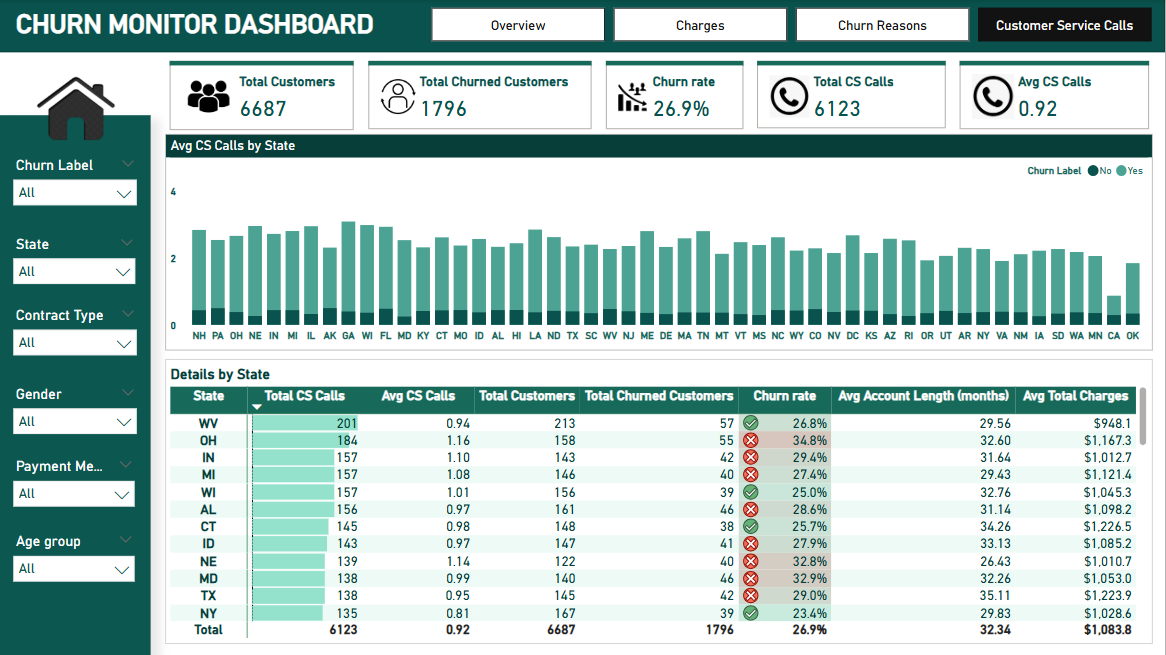

This screenshot's page, from the dashboard's own definition file:
{"tool":"powerbi","page":{"name":"Customer Service Calls","canvas":[1280,720],"ordinal":3},"visuals":[{"type":"shape","box":[0,125.7,165.7,592.9],"z":0},{"type":"textbox","box":[31.7,15.9,258.3,37.5],"z":1000},{"type":"image","box":[32.3,61.5,103.1,107.7],"z":2000},{"type":"slicer","fields":{"Values":["Databel - Data.Contract Type"]},"box":[0,189,155.8,85.1],"z":3000},{"type":"slicer","fields":{"Values":["Databel - Data.Gender"]},"box":[0,267.8,156.5,75.8],"z":4000},{"type":"slicer","fields":{"Values":["Databel - Data.State"]},"box":[0,341.2,154.1,78.3],"z":5000},{"type":"actionButton","box":[13,679.5,47.6,40.4],"z":6000},{"type":"slicer","fields":{"Values":["Databel - Data.Payment Method"]},"box":[1.2,417,152.9,80.7],"z":7000},{"type":"card","fields":{"Values":["Sum(Databel - Data.Customer Service Calls)"]},"box":[327.5,11.5,217.9,93.8],"z":8000},{"type":"card","fields":{"Values":["Avg(Databel - Data.Customer Service Calls)"]},"box":[620,11,238.5,94.2],"z":9000},{"type":"card","fields":{"Values":["_Measures.Churn rate"]},"box":[935.5,11,199.3,94.2],"z":10000},{"type":"lineChart","fields":{"Category":["Databel - Data.State"],"Series":["Databel - Data.Churn Label"],"Y":["Avg(Databel - Data.Customer Service Calls)"]},"box":[181.4,430,1087.1,270],"z":11000},{"type":"tableEx","fields":{"Values":["Databel - Data.State","Sum(Databel - Data.Customer Service Calls)","_Measures.Number of Customers","_Measures.Number of churned customers","_Measures.Churn rate"]},"box":[683.6,121.1,585.7,295.9],"z":12000},{"type":"clusteredBarChart","fields":{"Category":["Databel - Data.Churn Category"],"Y":["_Measures.% of Total Churned Customers"]},"box":[181.5,128.1,487.7,291.9],"z":13000},{"type":"actionButton","box":[53.4,679.5,49.1,40.4],"z":14000},{"type":"slicer","fields":{"Values":["Databel - Data.Age (bins)"]},"box":[2.9,493.4,152.9,72.1],"z":14001}]}

Visuals, with their boxes in screenshot pixels (x1, y1, x2, y2), scaled from the page's 1280x720 canvas onto the 1166x655 screenshot:
shape: [0,114,151,654]
textbox: [29,14,264,49]
image: [29,56,123,154]
slicer - Databel - Data.Contract Type: [0,172,142,249]
slicer - Databel - Data.Gender: [0,244,143,313]
slicer - Databel - Data.State: [0,310,140,382]
actionButton: [12,618,55,654]
slicer - Databel - Data.Payment Method: [1,379,140,453]
card - Sum(Databel - Data.Customer Service Calls): [298,10,497,96]
card - Avg(Databel - Data.Customer Service Calls): [565,10,782,96]
card - _Measures.Churn rate: [852,10,1034,96]
lineChart - Databel - Data.State x Databel - Data.Churn Label: [165,391,1156,637]
tableEx - Databel - Data.State x Sum(Databel - Data.Customer Service Calls): [623,110,1156,379]
clusteredBarChart - Databel - Data.Churn Category x _Measures.% of Total Churned Customers: [165,117,610,382]
actionButton: [49,618,93,654]
slicer - Databel - Data.Age (bins): [3,449,142,514]
